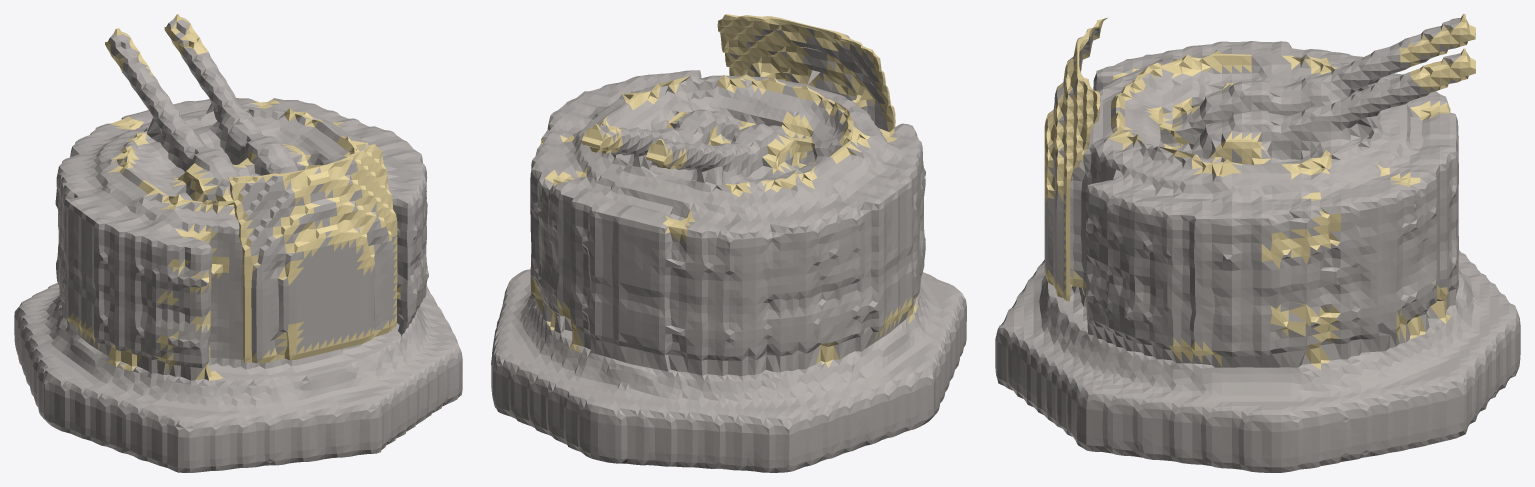
File: bld_aa_turret.glb
3 renders of one model, left to right at view 1: azimuth 30°, elevation 25°; view 2: azimuth 150°, elevation 25°; view 3: azimuth 270°, elevation 25°, orthographic. The views are drawn at different scales.
Parts seen in each view (by area): view 1: Mesh_0.007; view 2: Mesh_0.007; view 3: Mesh_0.007.
Boxes of the visible parts, <box> form: Mesh_0.007: <box>14,14,462,472</box>; Mesh_0.007: <box>491,14,966,472</box>; Mesh_0.007: <box>995,14,1520,472</box>.
Bounding box in the file's own units: 1.95 × 1.42 × 2.
